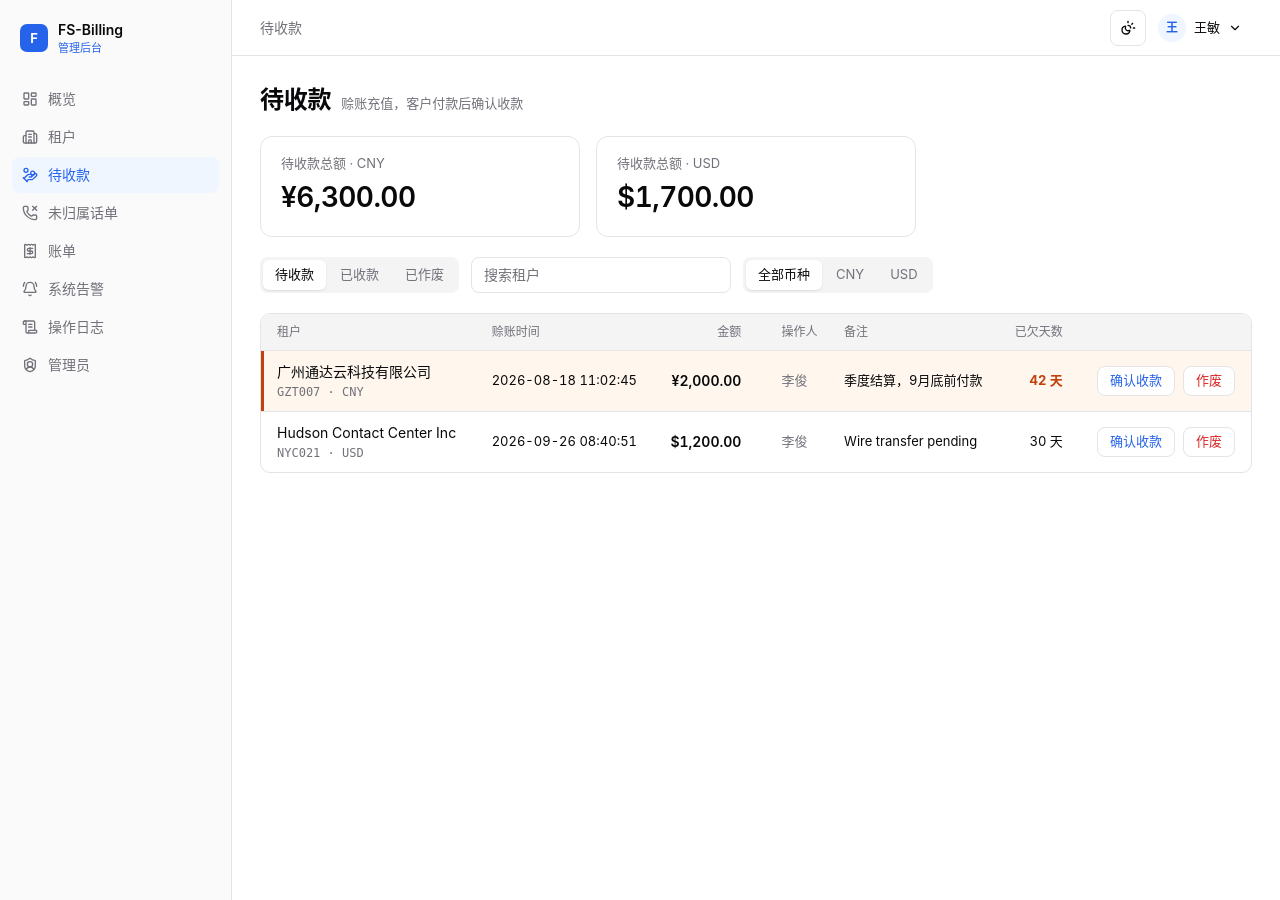
Test: confirm payment › sends the listed settlement token with the chosen date and note, no amount
The image size is (1280, 900).
Click the button with aria-label "确认收款 NYC021 $1,200.00".
click(1136, 442)  # box 1097,426 -> 1175,456
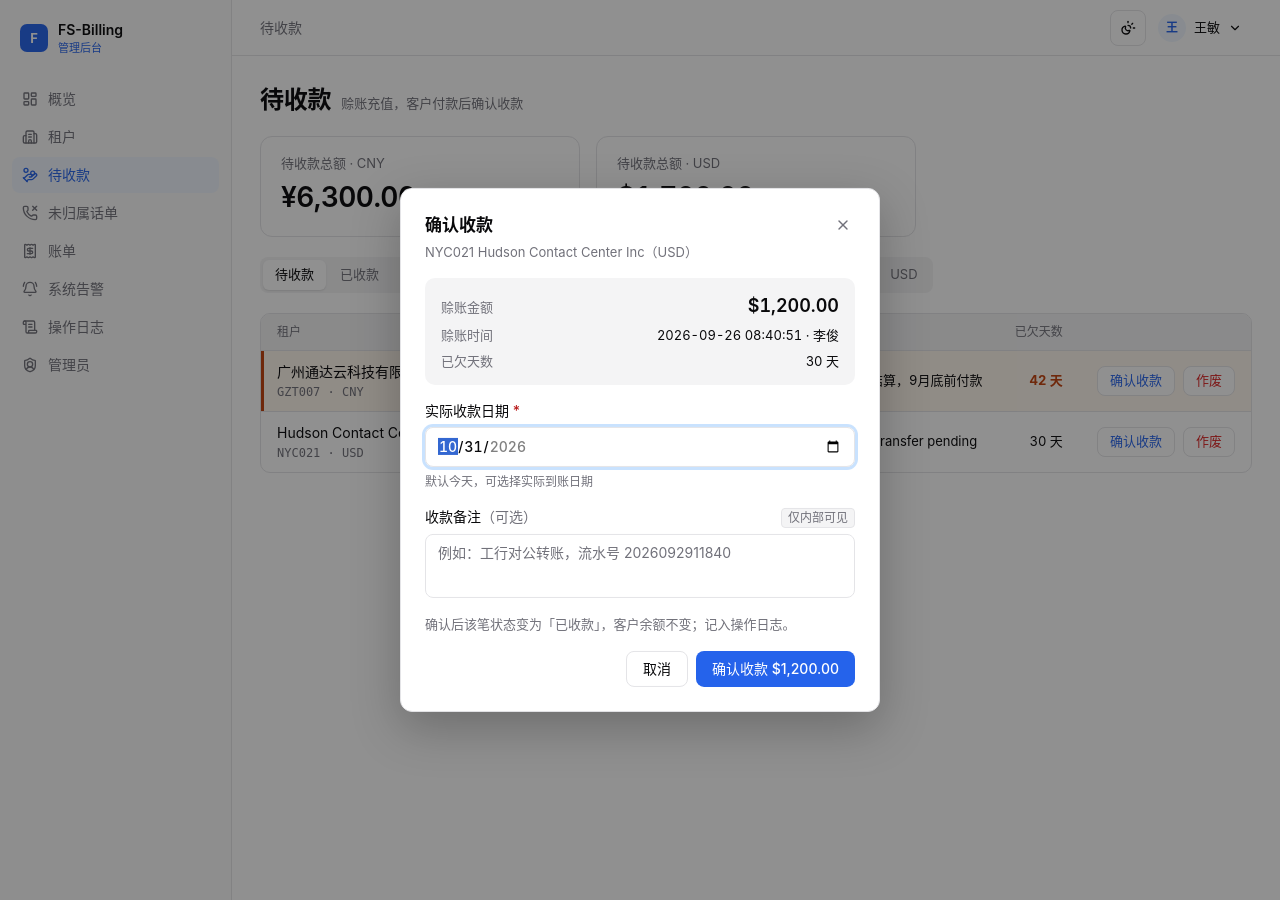
Result: the dialog "确认收款" shows "确认后该笔状态变为「已收款」，客户余额不变；记入操作日志。" at 425,616 -> 796,632
Type "电汇到账" into the text box labelled "收款备注（可选）".
click(640, 566); type("电汇到账")  # box 425,534 -> 855,598
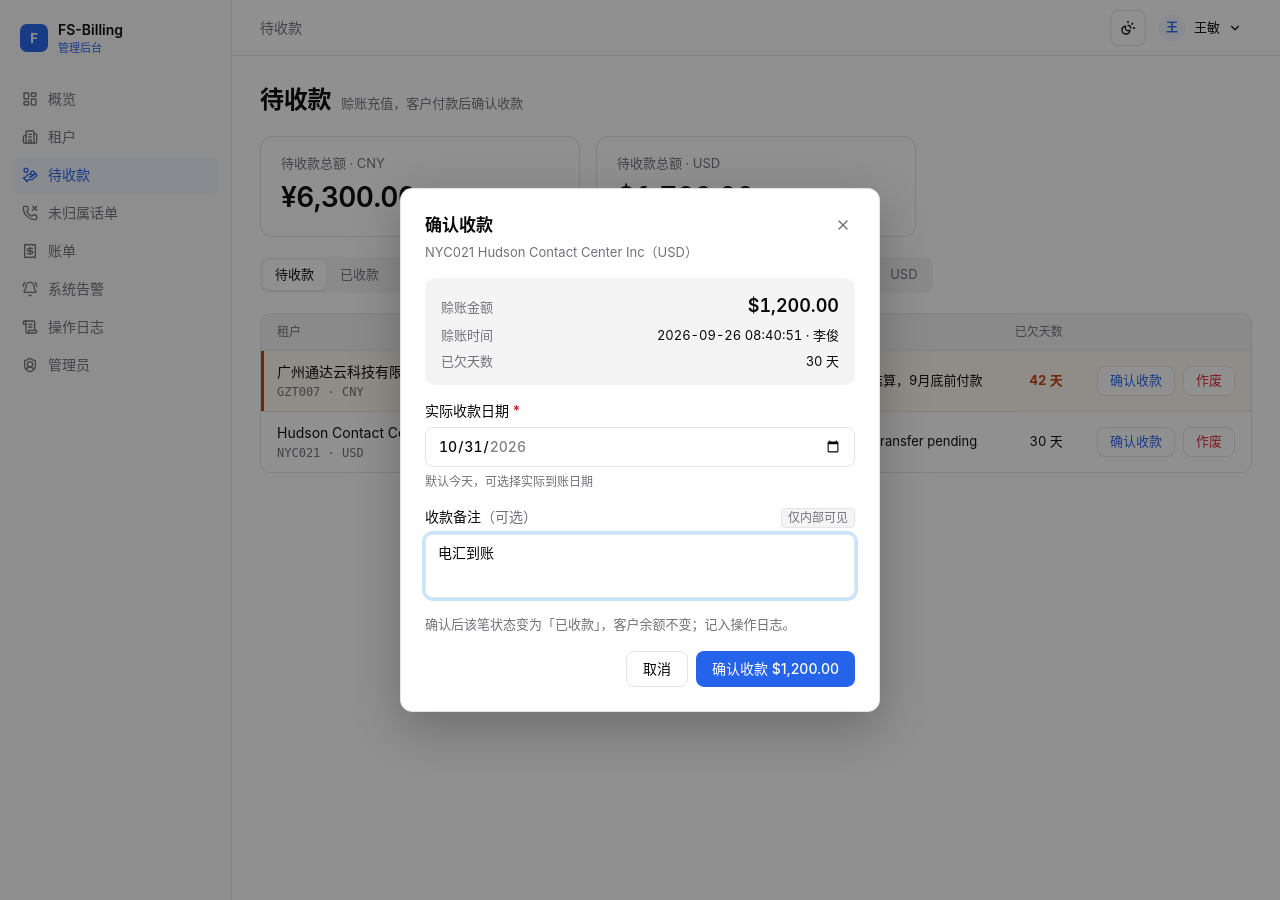
Click the button "确认收款 $1,200.00".
click(775, 669)  # box 696,651 -> 855,687
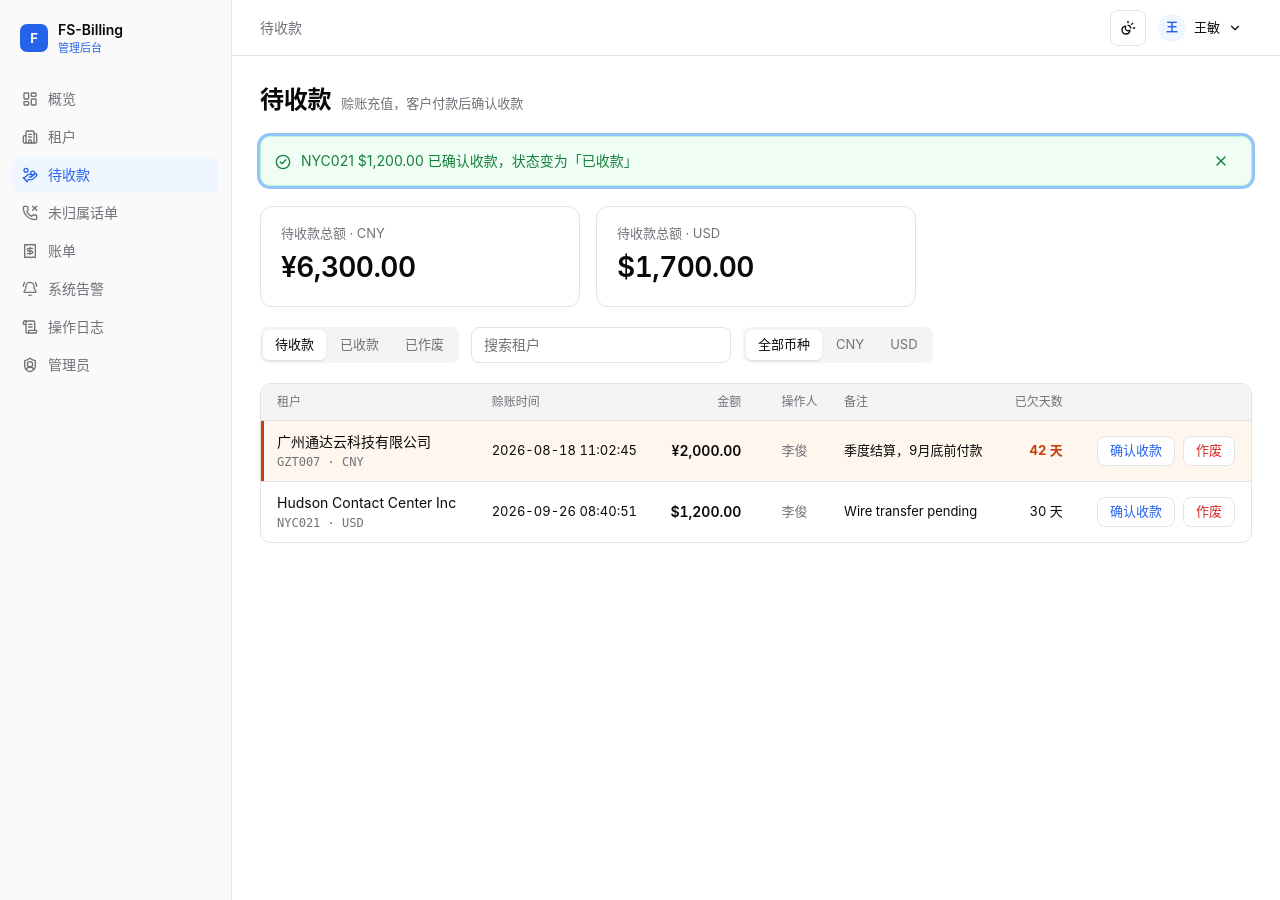
Result: the message reads "NYC021 $1,200.00 已确认收款，状态变为「已收款」" at 260,136 -> 1252,186
Result: the dialog is gone
